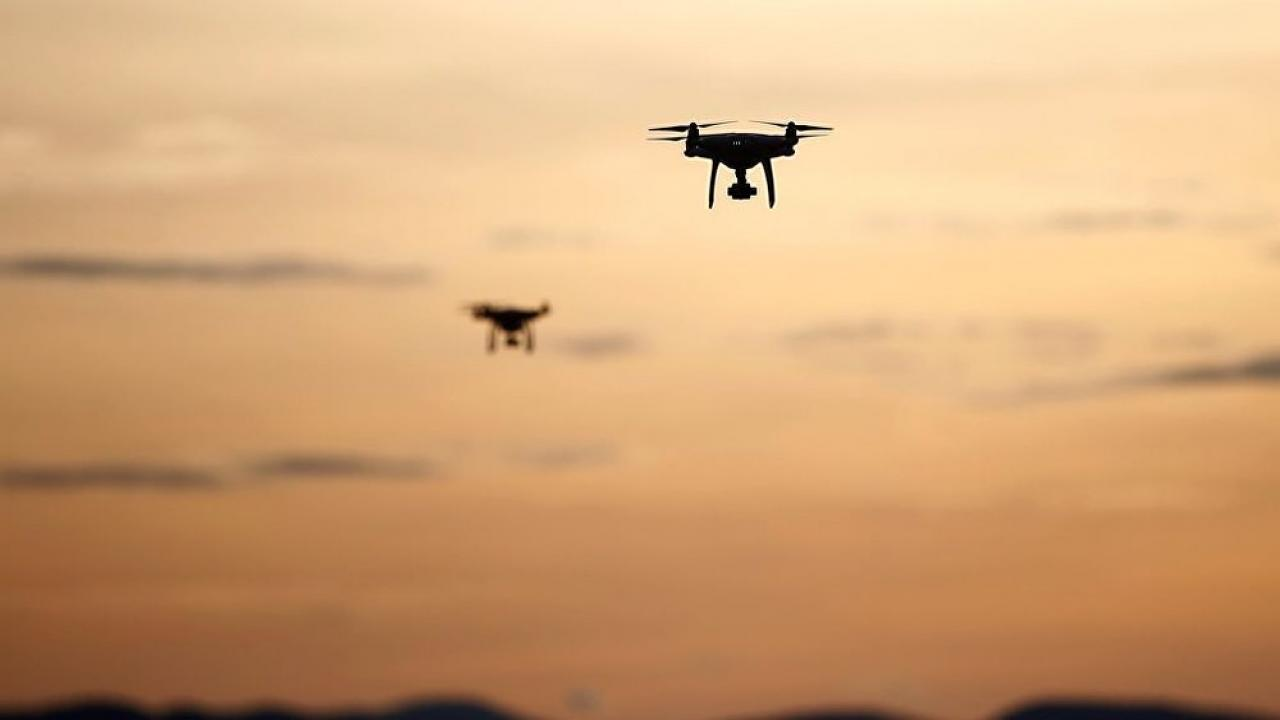Drone: (642, 108, 838, 213), (454, 288, 567, 363)
